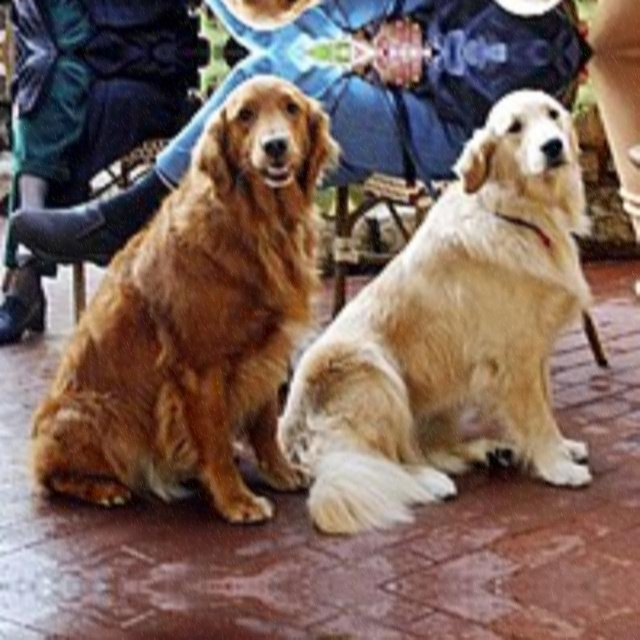dog: (36, 65, 345, 586), (340, 78, 596, 530), (37, 586, 346, 640), (37, 0, 346, 38), (340, 0, 596, 26)
